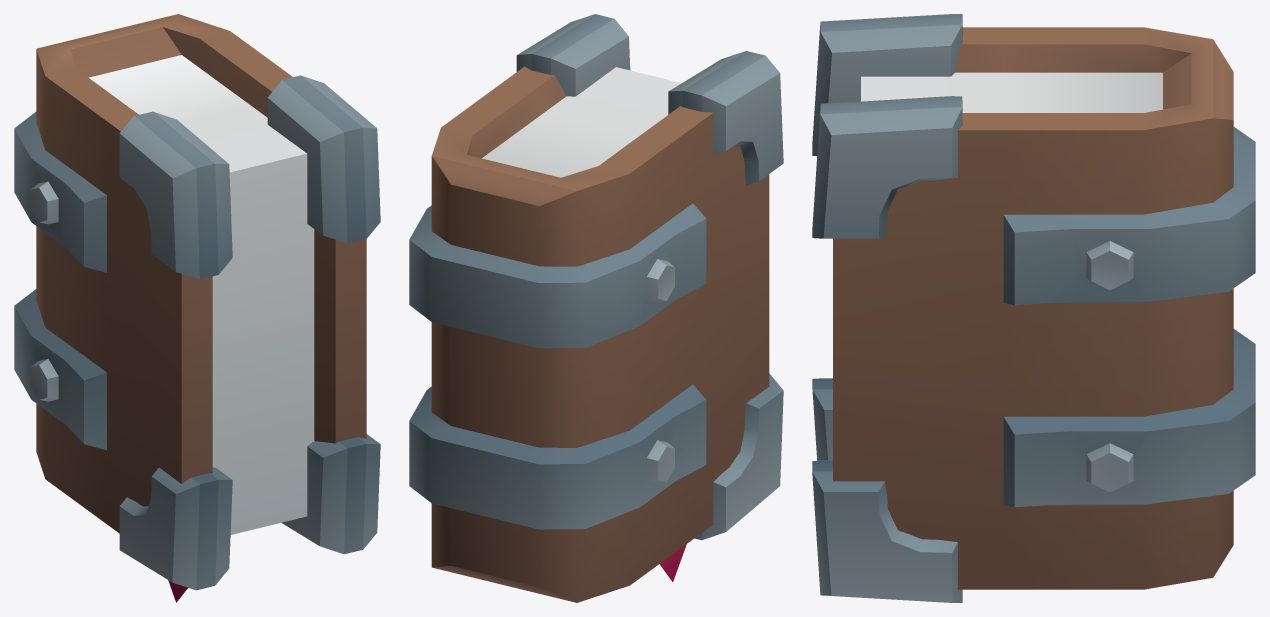
File: journal_closed.obj
3 views of the same model, side by side, from view 1: azimuth 30°, elevation 25°; view 2: azimuth 150°, elevation 25°; view 3: azimuth 270°, elevation 25° (orthographic). The views are drawn at different scales.
Visible parts, largest first — view 1: journal_closed; view 2: journal_closed; view 3: journal_closed.
Boxes of the visible parts, x1,y1,x2,y2 form: journal_closed: (14, 14, 380, 602); journal_closed: (409, 14, 783, 602); journal_closed: (812, 14, 1255, 602).
Bounding box in the file's own units: 0.3835 × 0.7914 × 0.5691.
Materials: 1 (1 with a texture image).
